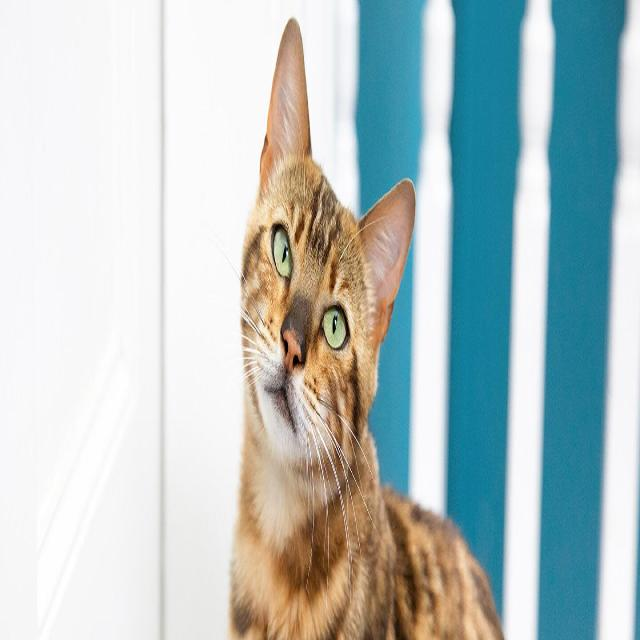Cat: (234, 8, 420, 495)
